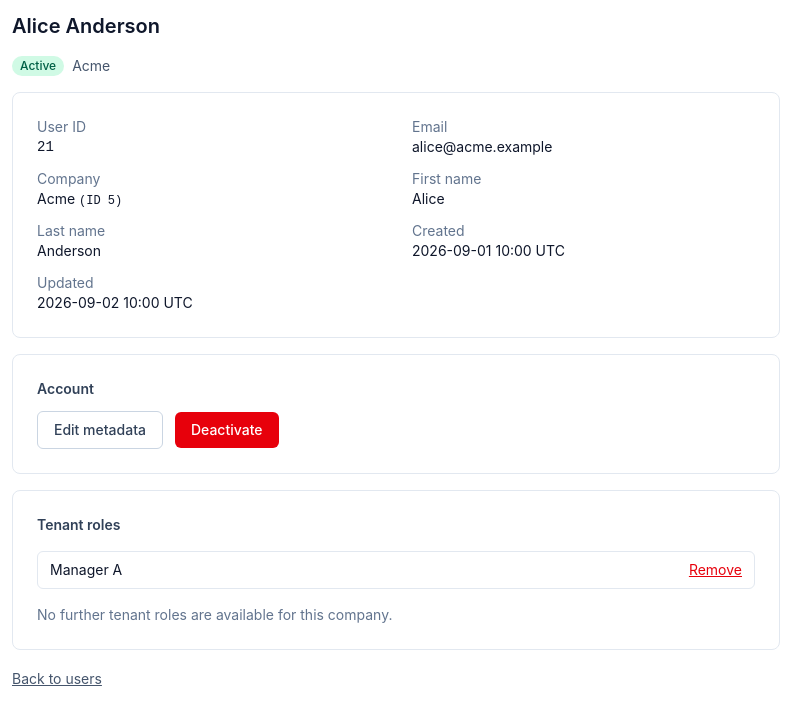
Scenario: AdminUserDetailPage › removes a tenant role
Expected: the heading "Alice Anderson" is shown, [12, 14, 160, 38]
Click the button "Remove": [715, 570] box [689, 560, 742, 580]
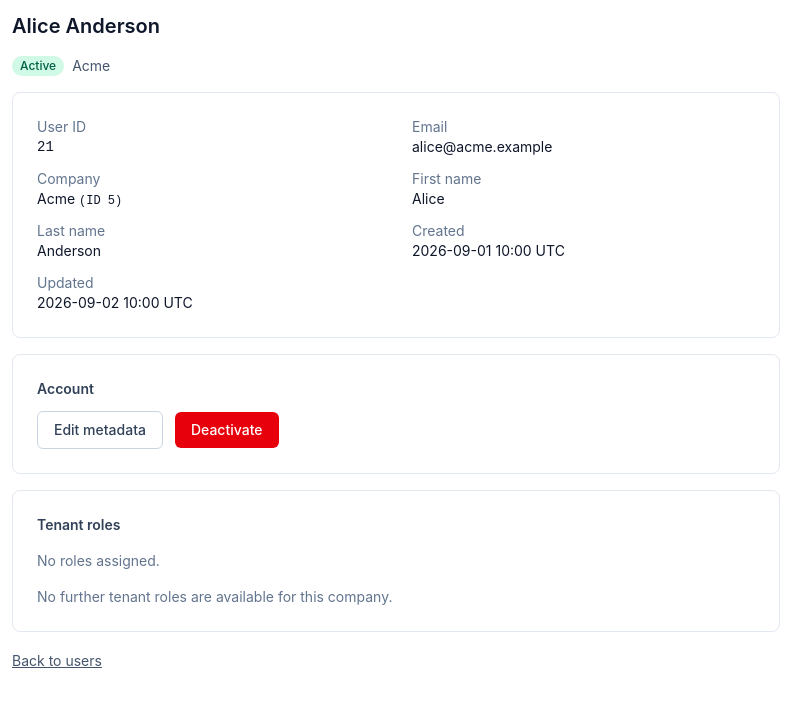
Result: the text "No roles assigned." is shown at [37, 552, 160, 569]
